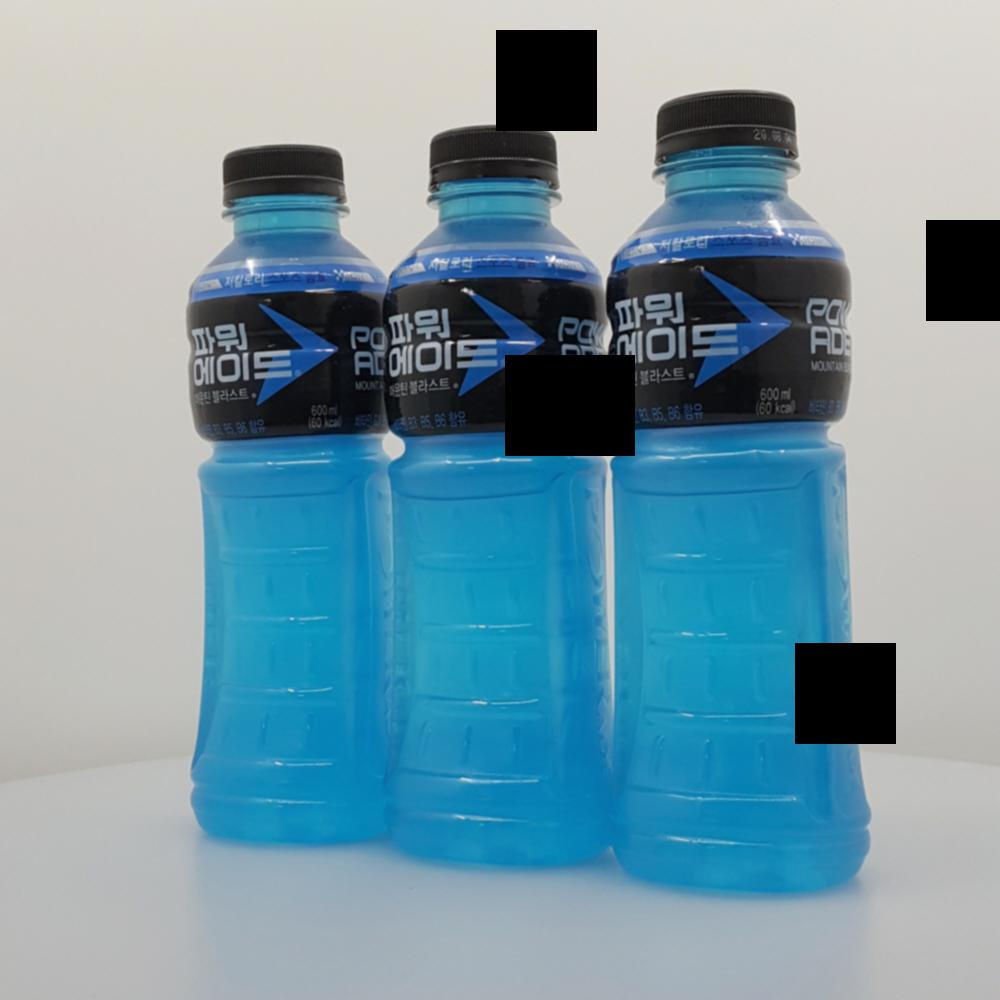powerade_mountainblast: (609, 59, 880, 907), (372, 101, 617, 893), (173, 131, 402, 865)
